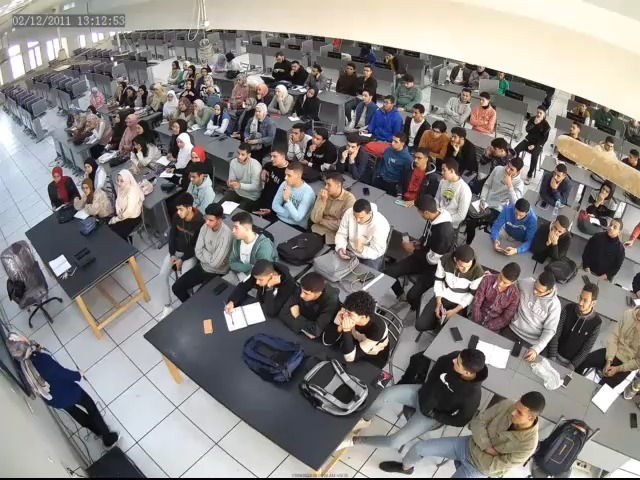phone: (491, 390, 557, 443)
zuobi: (441, 342, 494, 386), (451, 84, 498, 115), (406, 197, 445, 232), (525, 271, 559, 308), (450, 245, 481, 280)
